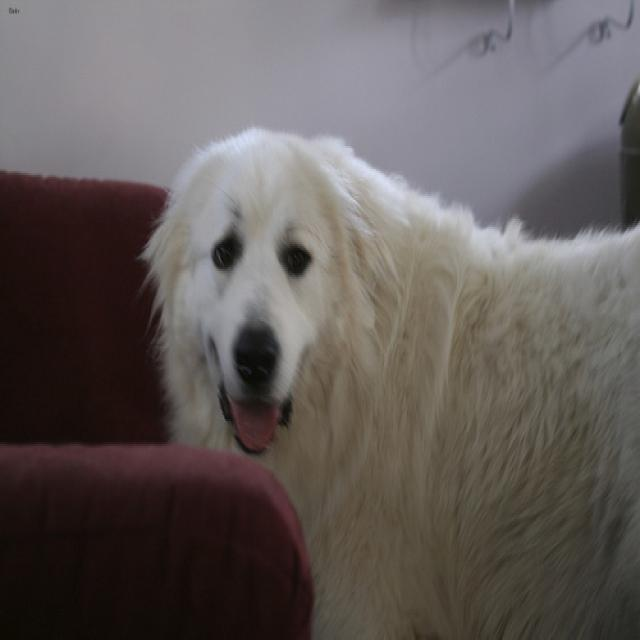dog-great_pyrenees: (133, 111, 637, 636)
